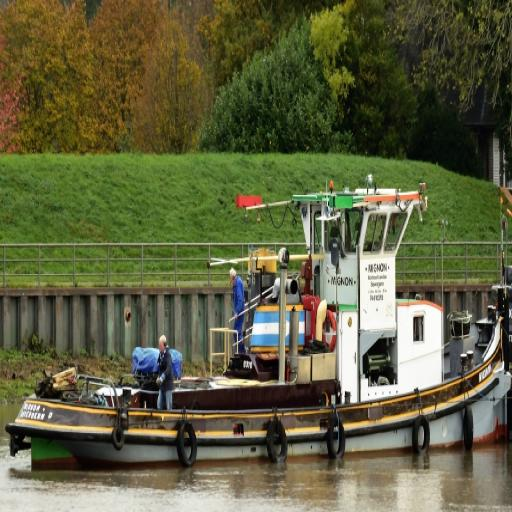tugboat: (4, 172, 512, 488)
